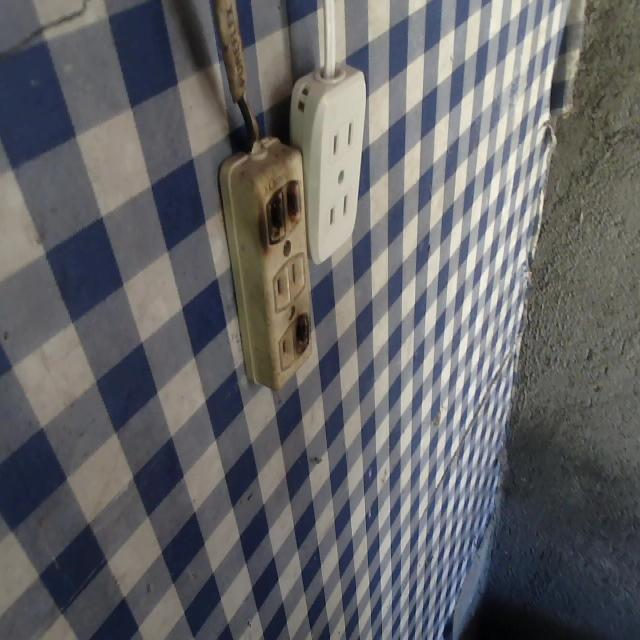-: (262, 176, 306, 241), (291, 309, 314, 359)
